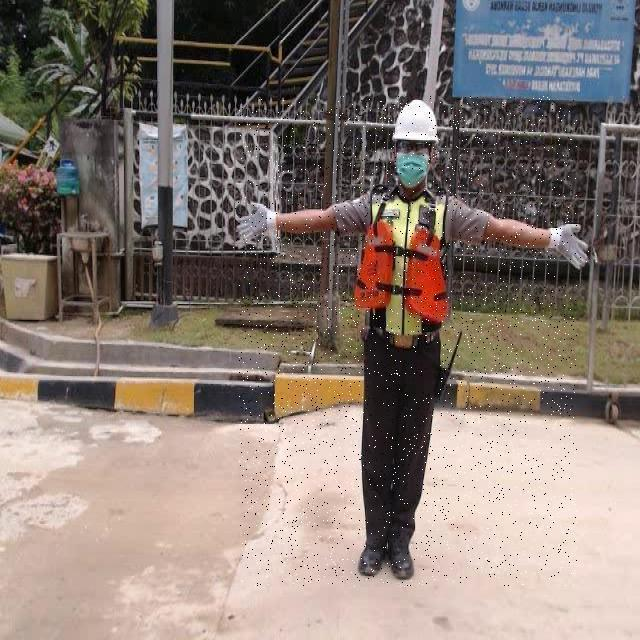gloves: (546, 223, 590, 270), (236, 201, 277, 245)
goggles: (394, 140, 431, 156)
safety_vest: (349, 181, 461, 341)
